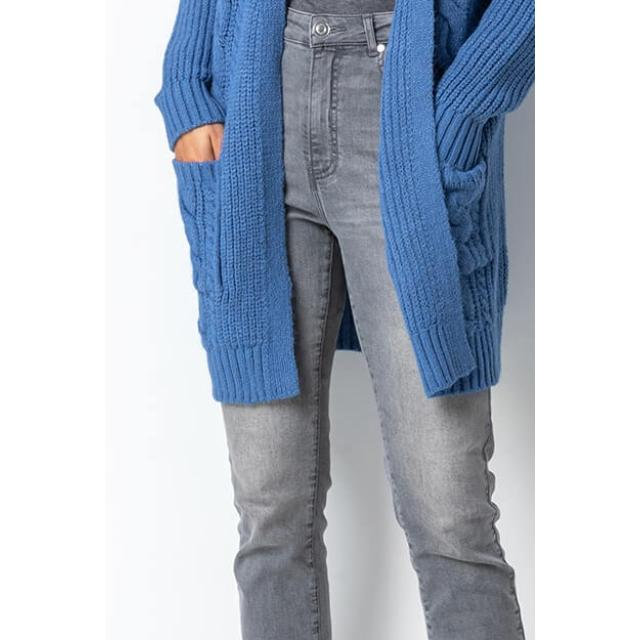denim: (280, 19, 394, 217)
